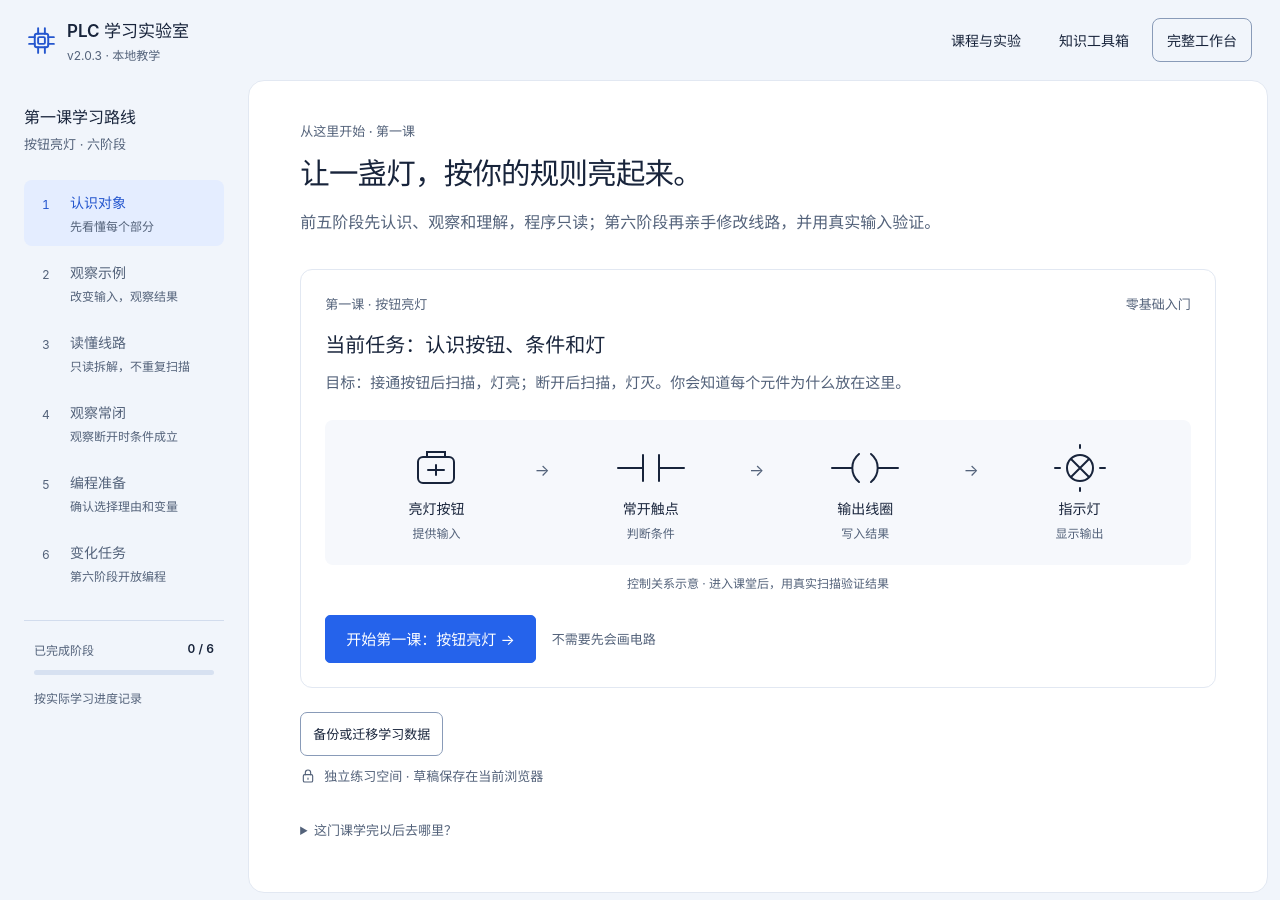
Test: 新手只有一条第一课主线，知识与正式课程按需打开
Expected: the heading "让一盏灯，按你的规则亮起来。" is shown, [300,155,702,191]
Expected: the number of list items is 6, [24,180,224,246]; [42,264,178,304]; [42,334,190,374]; [42,404,178,444]; [42,474,178,514]; [42,544,166,584]
Click the button "知识工具箱": {"x": 1094, "y": 40} [1044,18,1144,62]
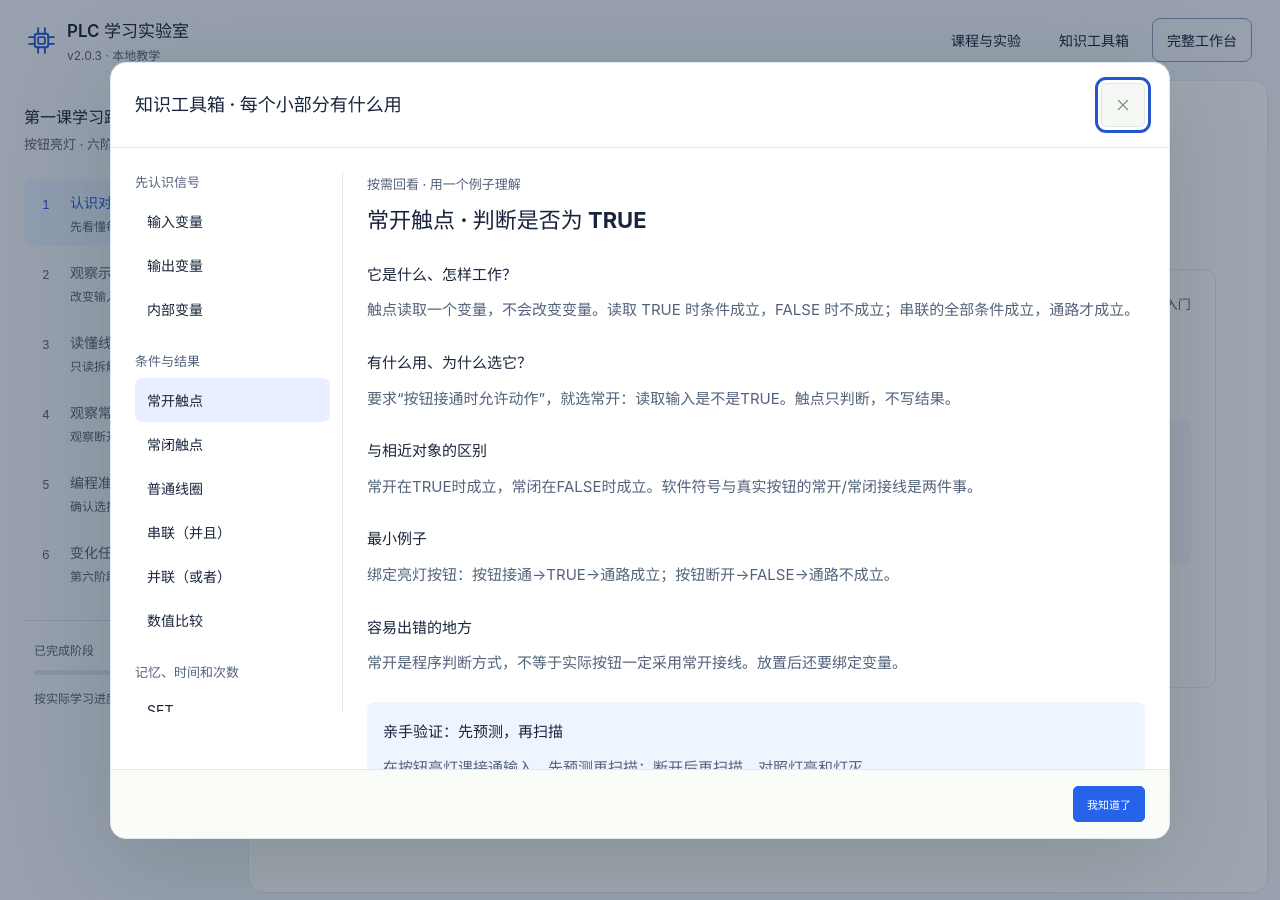
Click the button "常闭触点": {"x": 232, "y": 444} [135,422,330,466]
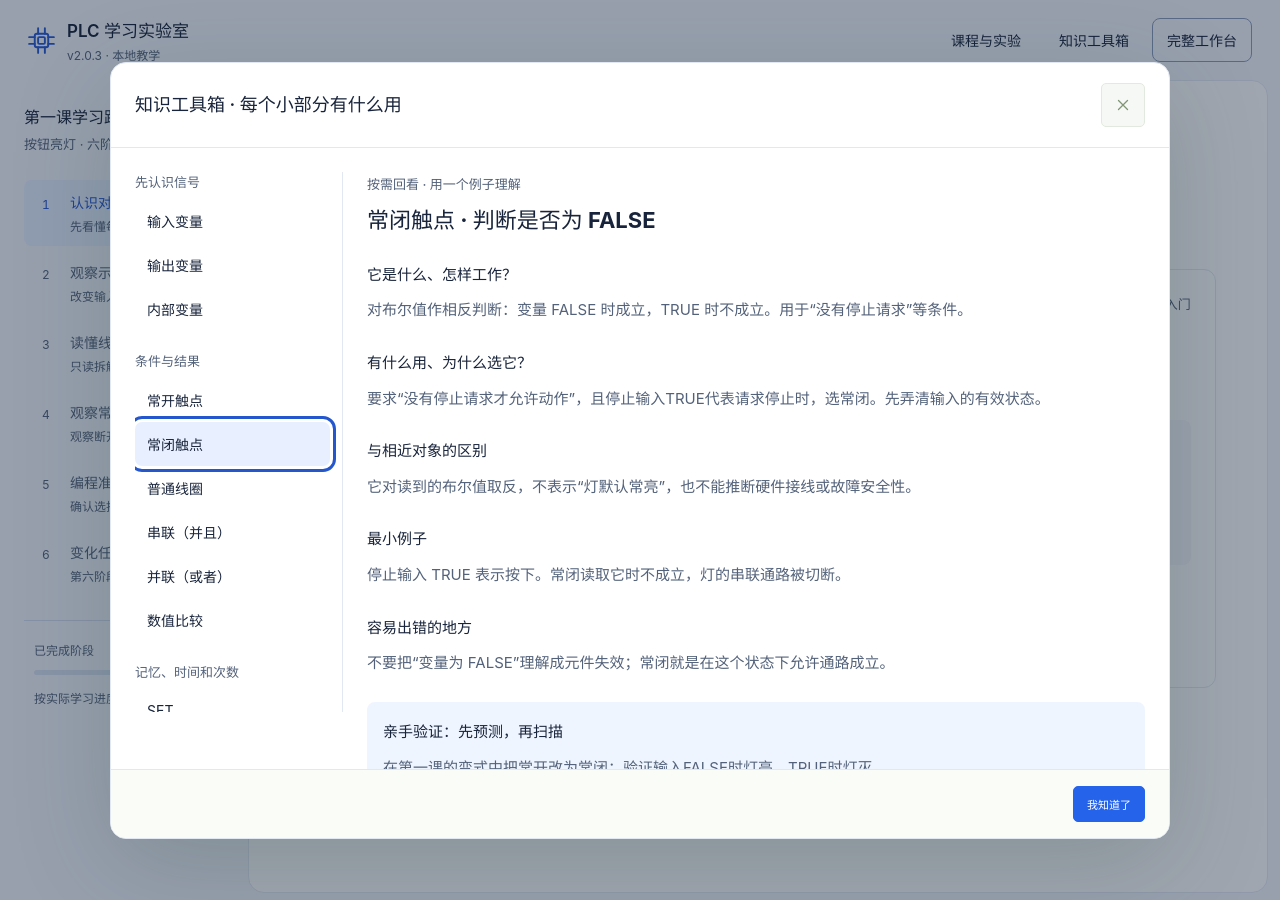
Result: the text "它对读到的布尔值取反，不表示“灯默认常亮”，也不能推断硬件接线或故障安全性。" is shown at [367,477,920,496]
Click the button "输入变量": {"x": 232, "y": 220} [135,198,330,242]
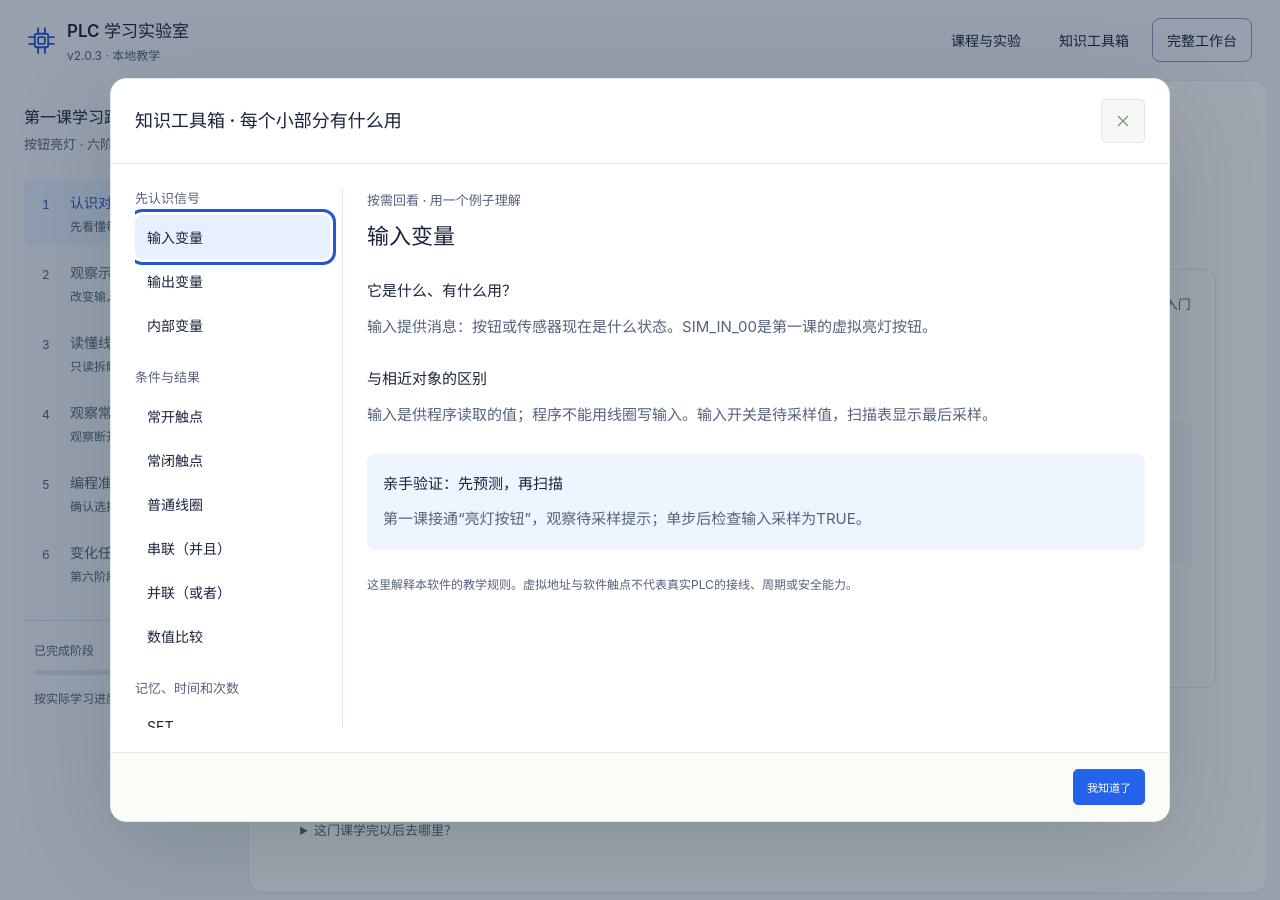
Result: the text "输入提供消息：按钮或传感器现在是什么状态。SIM_IN_00是第一课的虚拟亮灯按钮。" is shown once at [367,317,937,336]
Click the button named "关闭弹窗": {"x": 1123, "y": 121} [1101,99,1145,143]
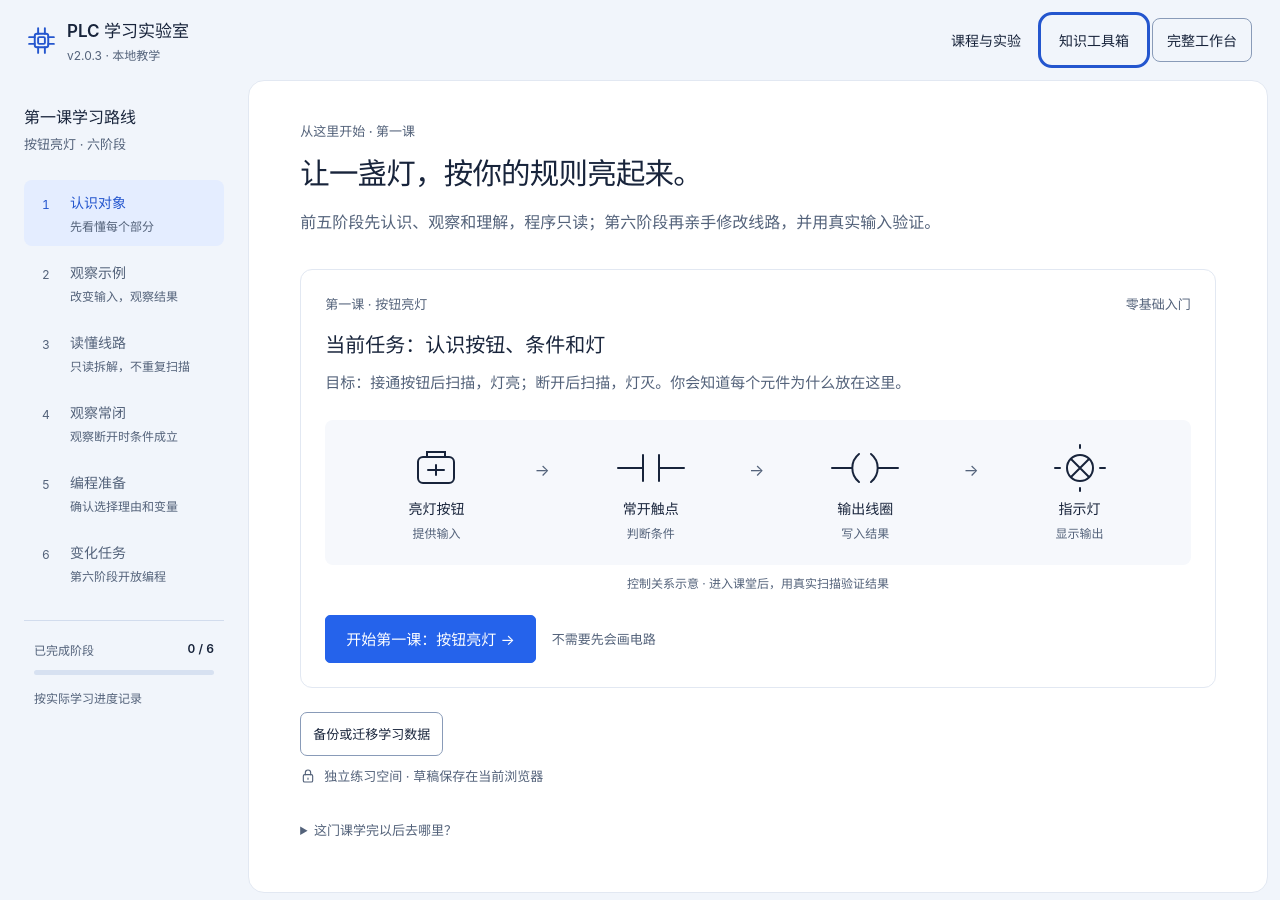
Click the button "课程与实验": {"x": 986, "y": 40} [936,18,1036,62]
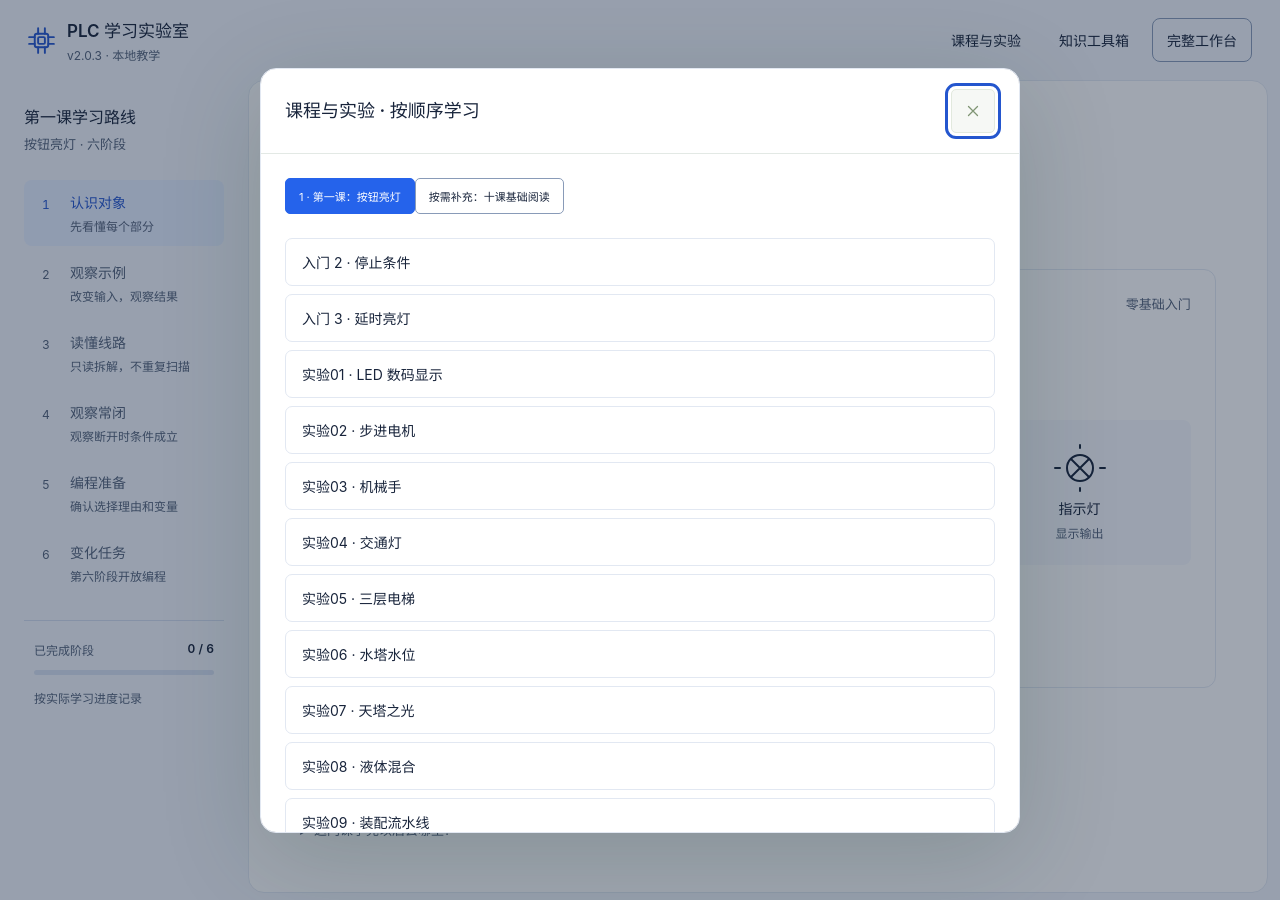
Result: the button "实验01 · LED 数码显示" is shown at [285,350,995,398]
